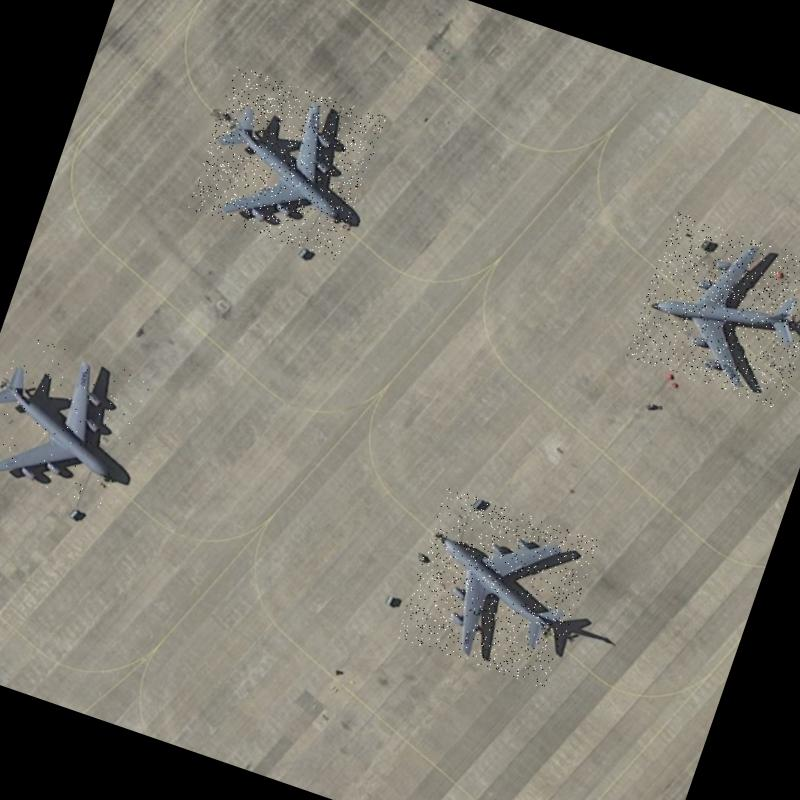A14: (395, 487, 599, 690), (187, 65, 386, 260), (625, 211, 800, 410), (0, 327, 153, 512)
